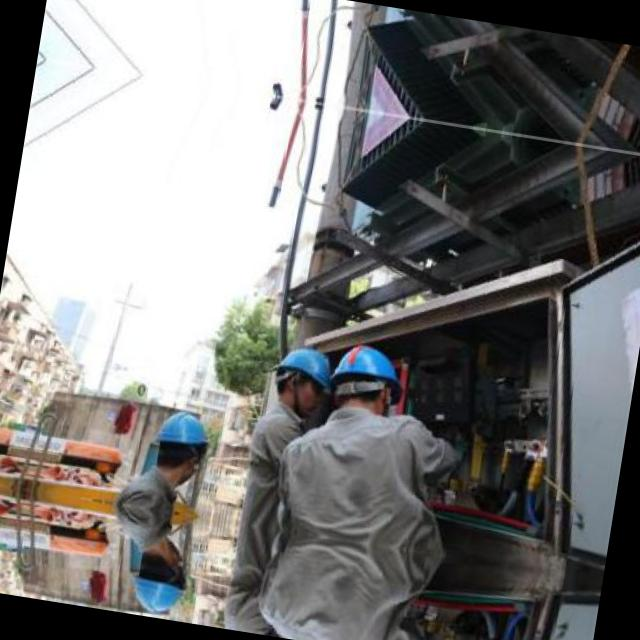helmet: (323, 336, 409, 431), (264, 336, 342, 419), (147, 403, 213, 489), (126, 534, 192, 620)
